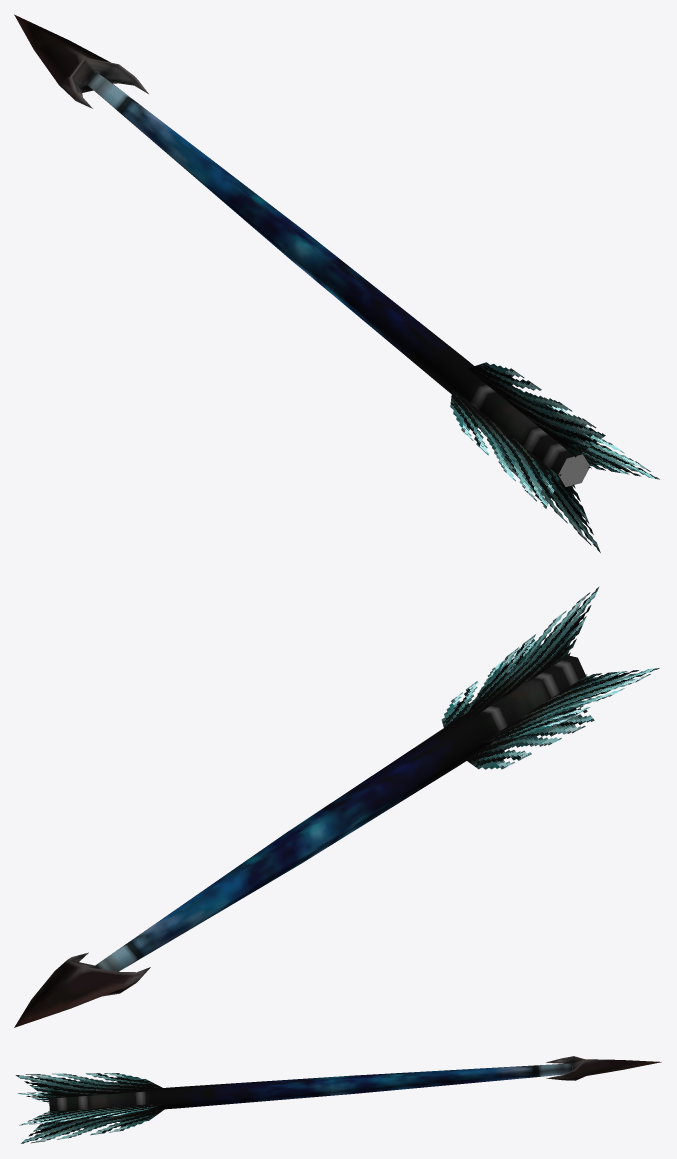
Rendered from CIN_08B_BLACK ARROW.fbx.
The picture shows the model from 3 angles, top to bottom: view 1: azimuth 30°, elevation 25°; view 2: azimuth 150°, elevation 25°; view 3: azimuth 270°, elevation 25°; orthographic projection. The views are drawn at different scales.
Parts seen in each view (by area): view 1: CIN_08B_BLACK ARROW; view 2: CIN_08B_BLACK ARROW; view 3: CIN_08B_BLACK ARROW.
Part boxes in pixels (x1,y1,x2,y2): CIN_08B_BLACK ARROW: (14,14,659,552); CIN_08B_BLACK ARROW: (14,586,659,1027); CIN_08B_BLACK ARROW: (15,1056,661,1143).
Bounding box in the file's own units: 1461 × 1645 × 12114.
2 materials, 2 textured.
